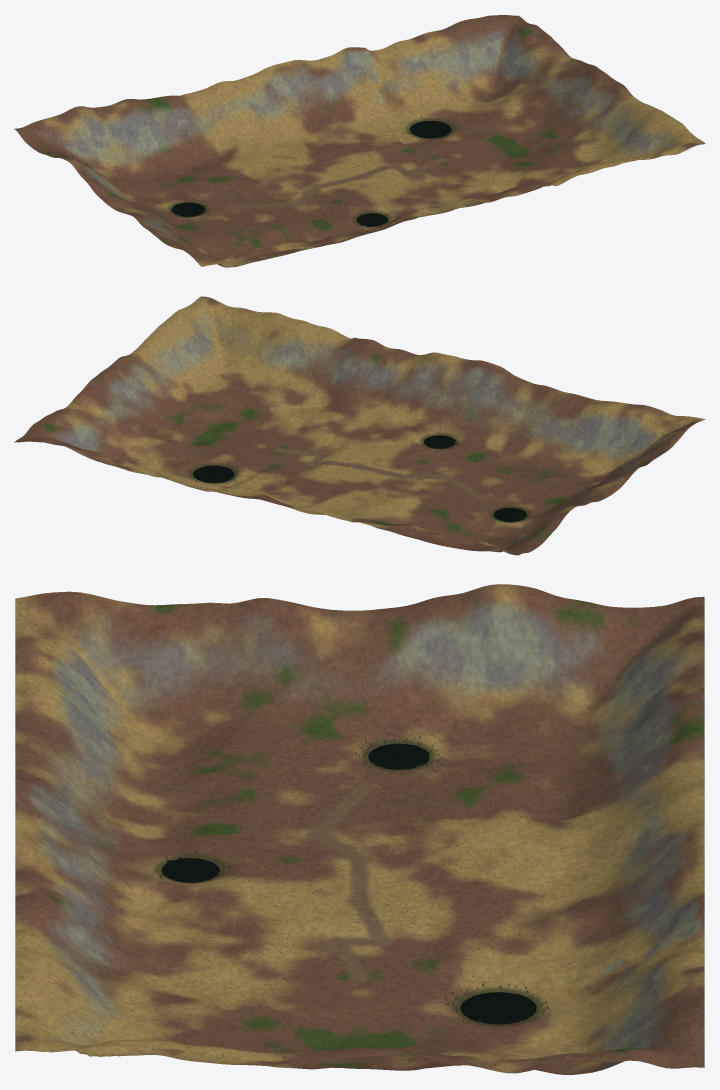
The model's file is SM_Art_Terrain_L_TheNorthernOath.gltf.
3 renders of one model, top to bottom at view 1: azimuth 30°, elevation 25°; view 2: azimuth 150°, elevation 25°; view 3: azimuth 270°, elevation 25°, orthographic. The views are drawn at different scales.
Parts seen in each view (by area): view 1: SM_Art_Terrain_L_TheNorthernOath; view 2: SM_Art_Terrain_L_TheNorthernOath; view 3: SM_Art_Terrain_L_TheNorthernOath.
Boxes of the visible parts, x1,y1,x2,y2 form: SM_Art_Terrain_L_TheNorthernOath: (14,15,705,267); SM_Art_Terrain_L_TheNorthernOath: (14,296,705,555); SM_Art_Terrain_L_TheNorthernOath: (15,584,704,1074).
Bounding box in the file's own units: 231 × 24.5 × 149.
Materials: 6 (5 with a texture image).
